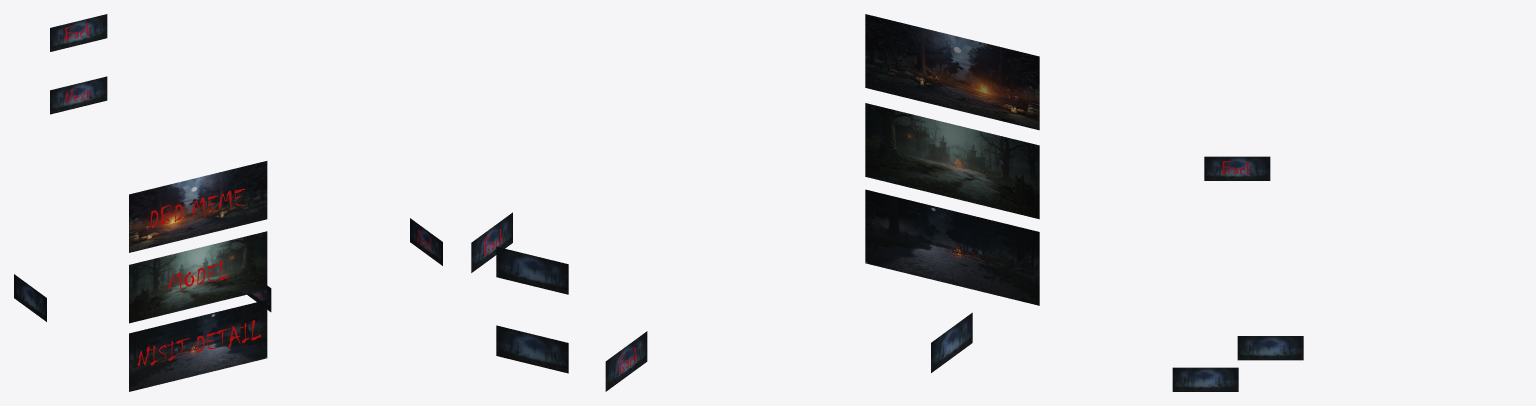
File: newsign.glb
3 renders of one model, left to right at view 1: azimuth 30°, elevation 25°; view 2: azimuth 150°, elevation 25°; view 3: azimuth 270°, elevation 25°, orthographic. The views are drawn at different scales.
Visible parts, largest first — view 1: Plane.004, Plane.002, Plane.003, Plane.008, Plane.005, Plane.006, Plane.009, Text.003, Text.001, Text.002; view 2: Plane.002, Plane.003, Plane.004, Plane.005, Plane.008, Plane.007, Plane.006, Plane.009; view 3: Plane.007, Plane.009, Plane.006.
Boxes of the visible parts, x1,y1,x2,y2 form: Plane.004: (129,231,267,323); Plane.002: (129,161,267,252); Plane.003: (129,300,267,391); Plane.008: (50,76,107,114); Plane.005: (50,14,107,51); Plane.006: (14,274,46,321); Plane.009: (410,218,442,265); Text.003: (137,320,260,366); Text.001: (150,189,245,227); Text.002: (168,260,228,291); Plane.002: (865,14,1039,130); Plane.003: (865,189,1039,305); Plane.004: (865,103,1039,219); Plane.005: (496,246,568,294); Plane.008: (496,325,568,373); Plane.007: (605,331,647,391); Plane.006: (931,312,972,372); Plane.009: (471,212,512,272); Plane.007: (1237,336,1303,360); Plane.009: (1172,367,1238,391); Plane.006: (1204,156,1270,180).
Size of the model in its own units: 8.69 by 5.14 by 8.97.
Materials: 16 (8 with a texture image).
